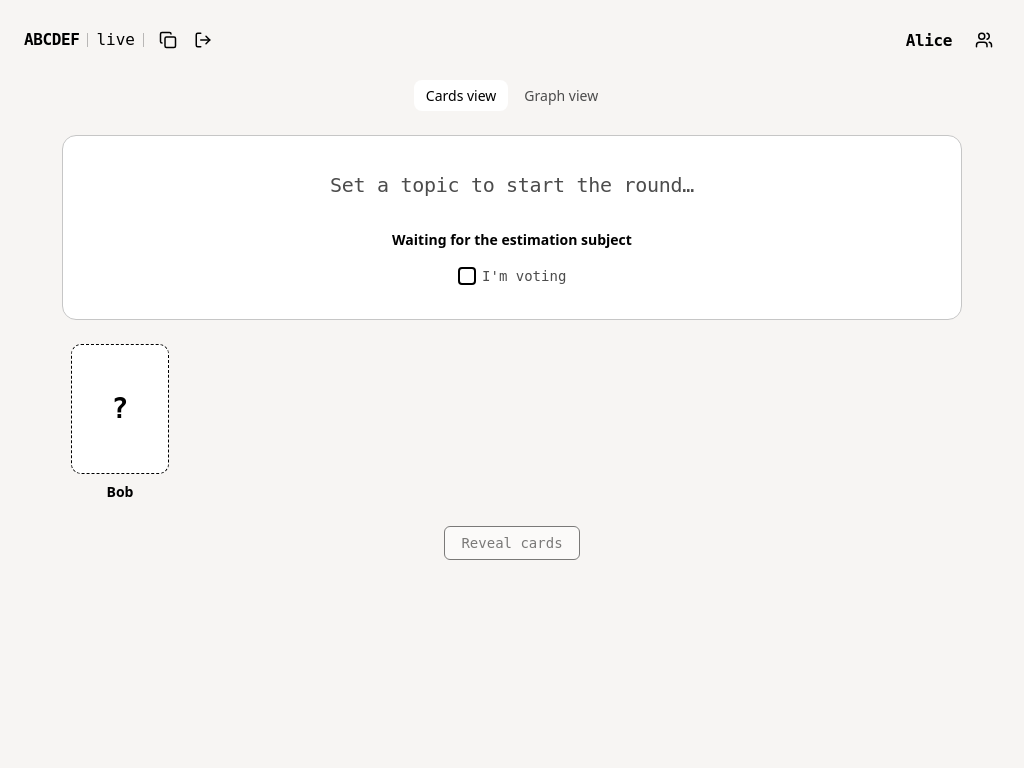
Scenario: Room (S9 wiring) › shows the participants roster to the host, listing everyone with self as "me"
The image size is (1024, 768).
Click the button named "Room participants": point(984, 40) [968,24,1000,56]
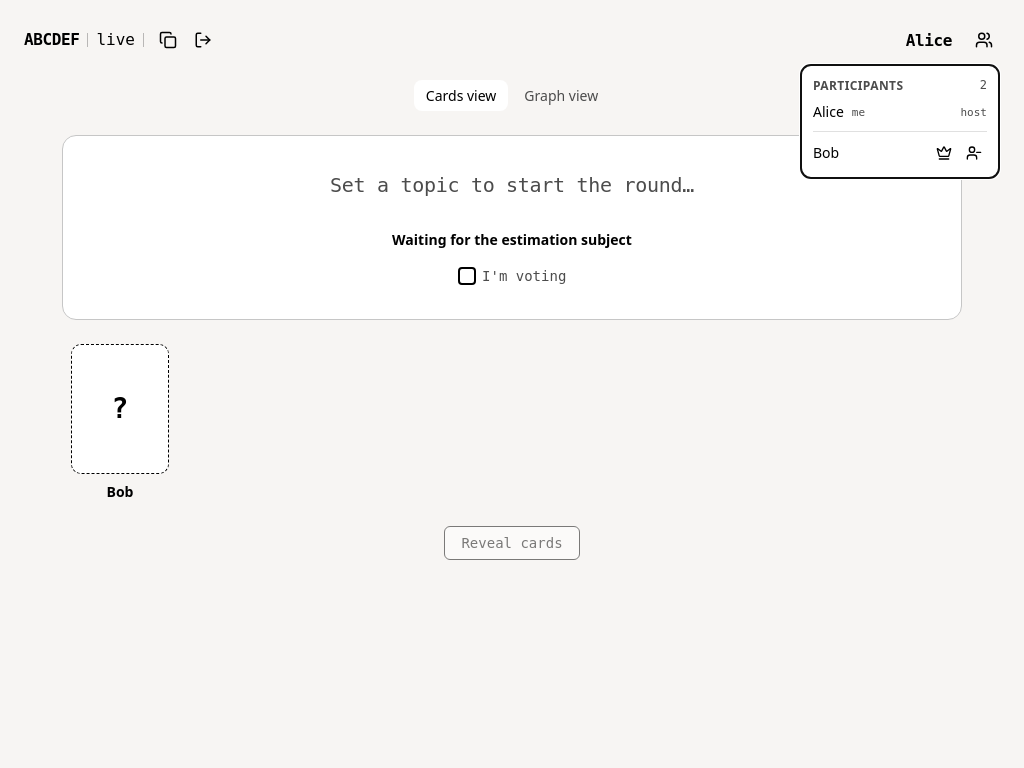
expect the list item "Alice me host" is shown: met, box [813,102,987,132]
expect the list item "Bob" is shown: met, box [813,140,987,166]
expect the text "me" is shown: met, box [852,105,865,120]
